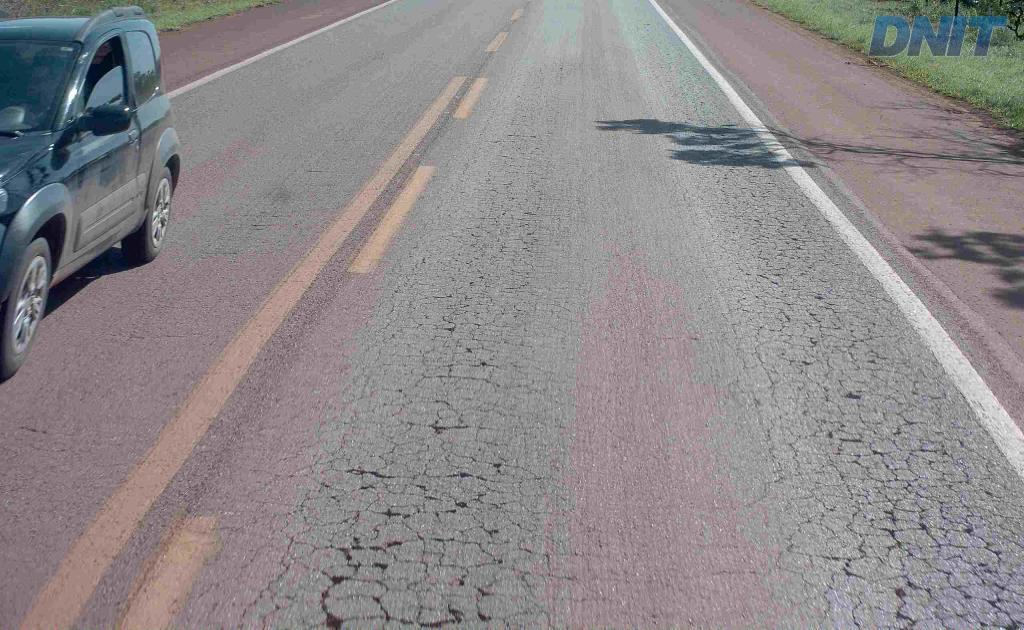crack: (319, 535, 389, 605)
